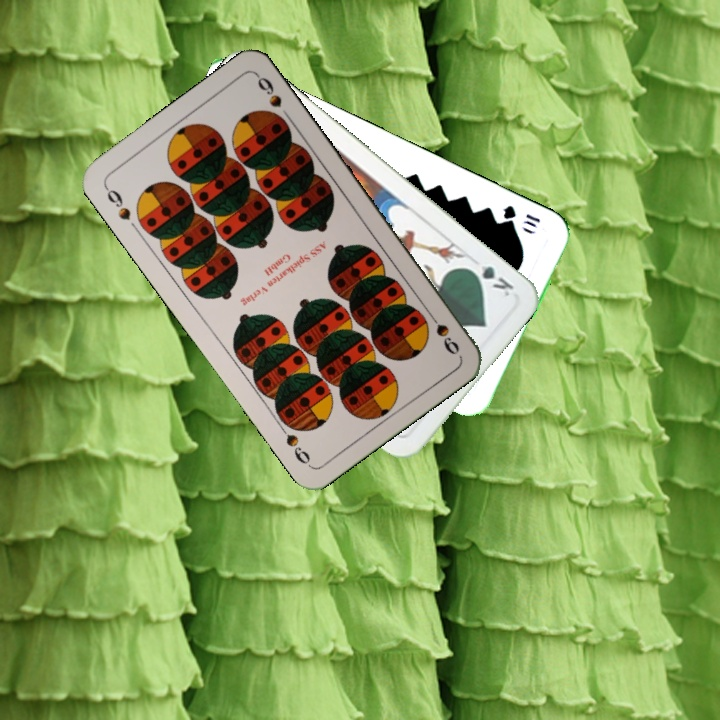G10: (499, 201, 543, 232)
GK: (463, 261, 517, 299)
S9: (422, 306, 462, 358), (100, 182, 134, 223)
